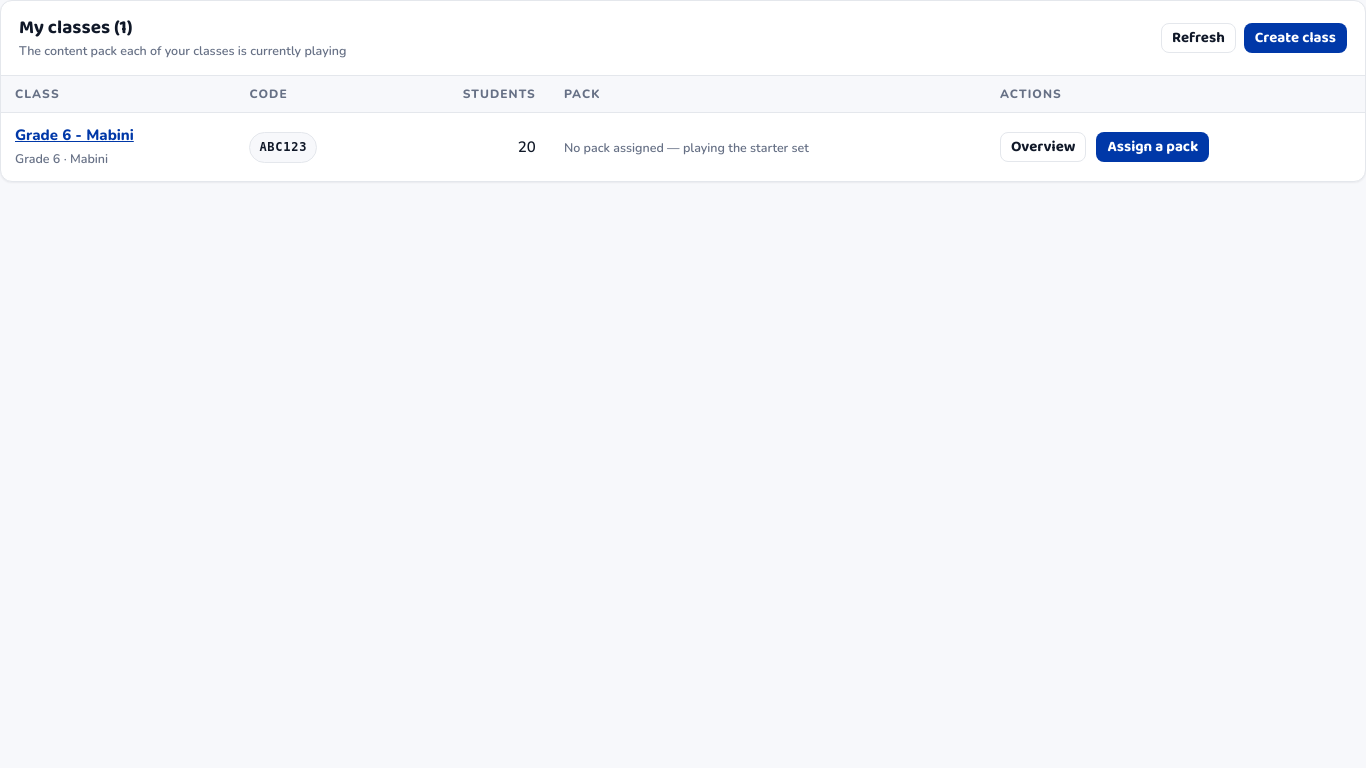
Test case: my classes › shows the error and leaves the dialog open when publishing the fork fails
The width and height of the screenshot is (1366, 768).
Check: the link "Grade 6 - Mabini" is shown, box [15, 125, 134, 145]
Click the button "Assign a pack" at (1153, 147), box [1096, 132, 1209, 162]
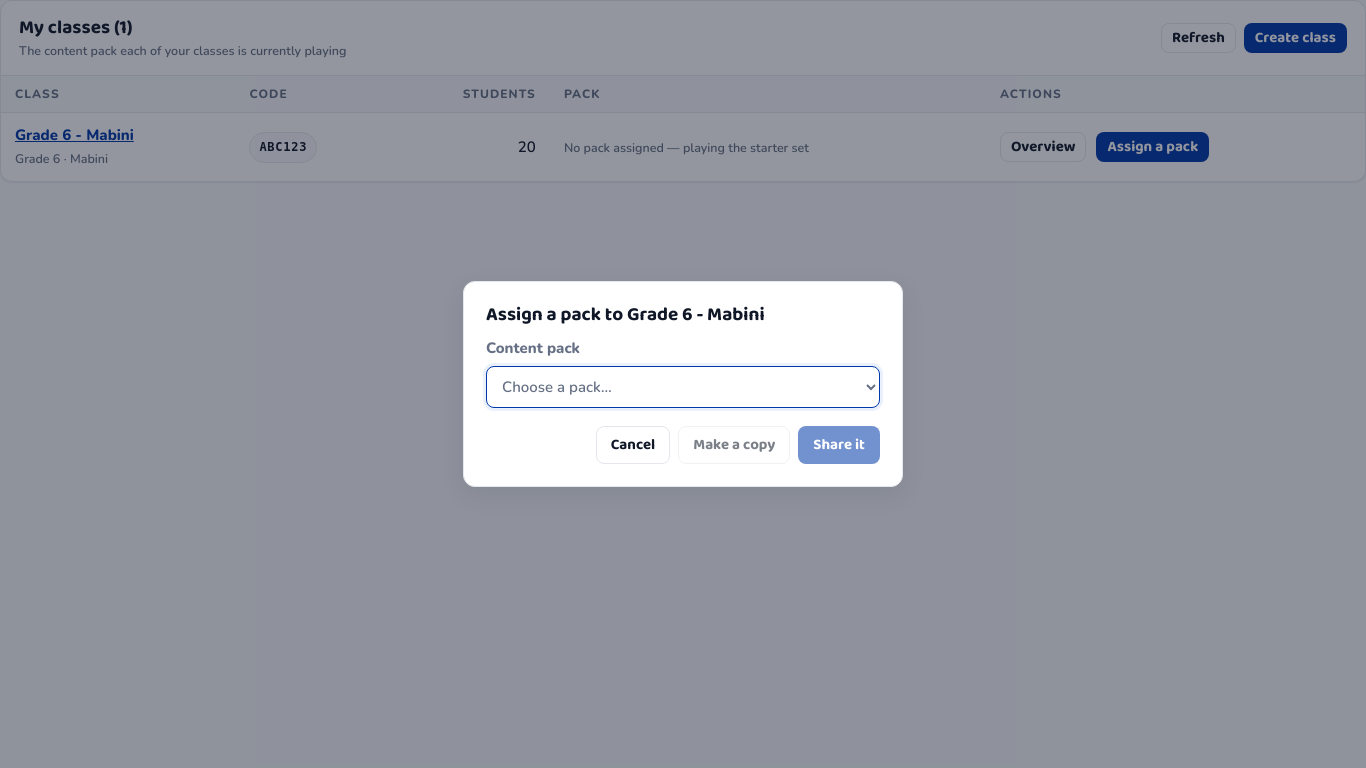
Select "Grade 6 – Q1" in the dropdown labelled "Content pack" at (683, 387), box [486, 366, 880, 408]
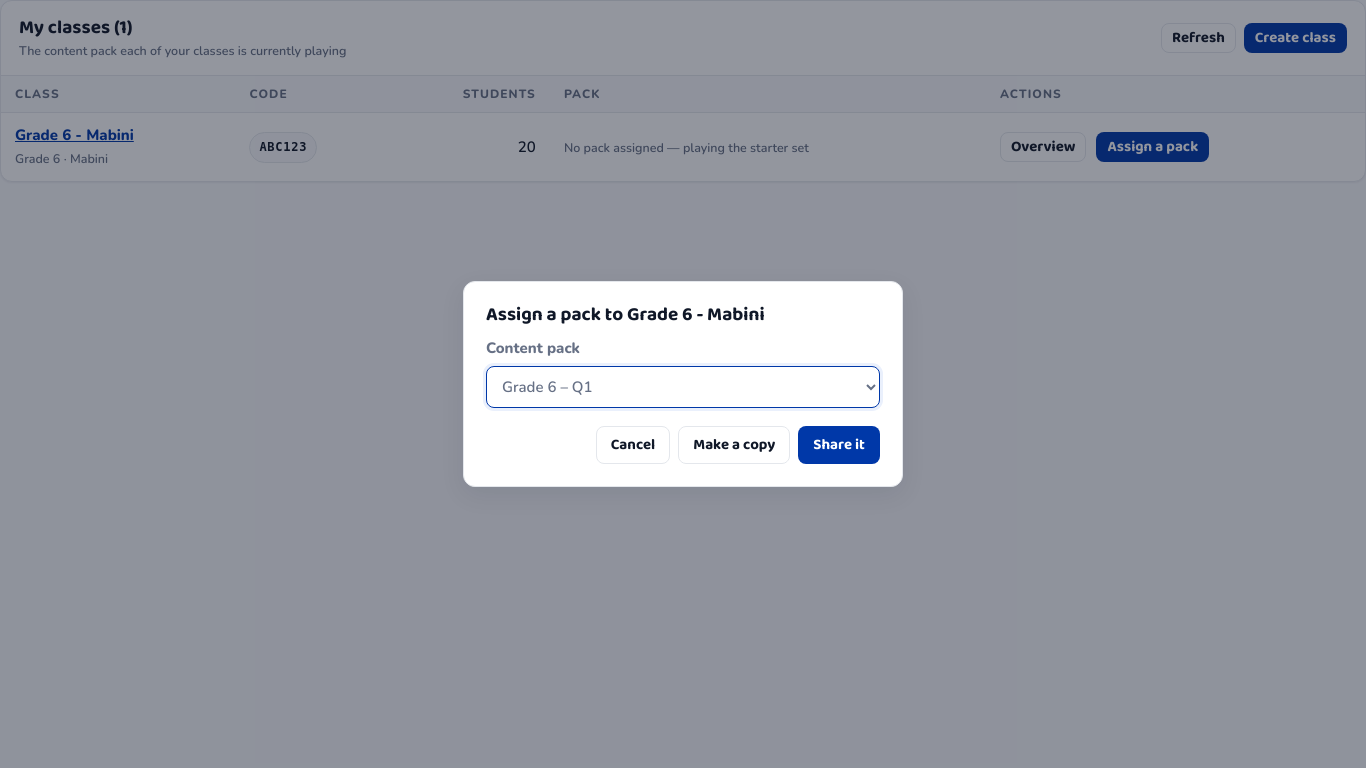
Click the button "Make a copy" at (734, 445), box [678, 426, 790, 464]
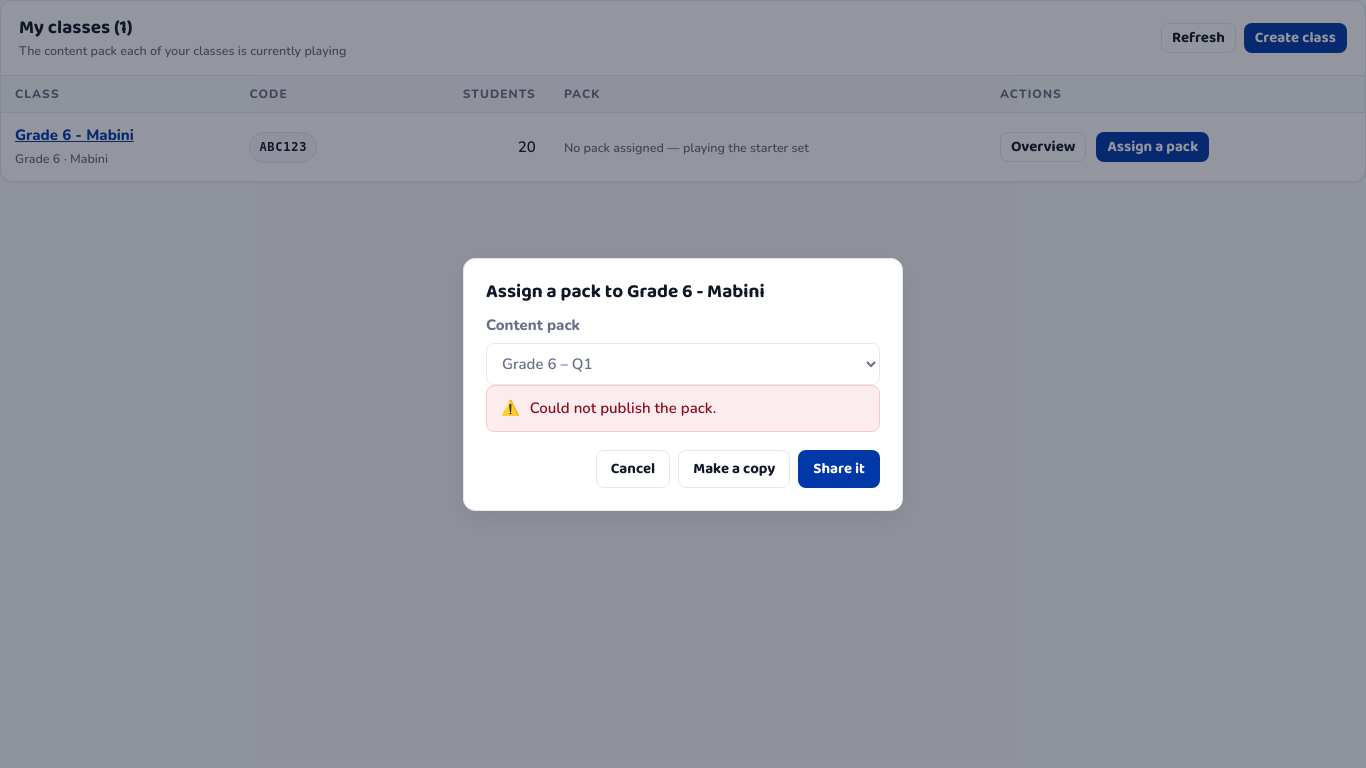
Check: the dialog is shown, box [463, 258, 903, 510]
Check: the text "Could not publish the pack." is shown, box [530, 396, 716, 420]
